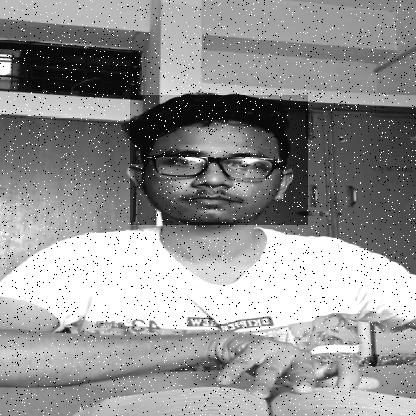Normal: (130, 95, 308, 225)
